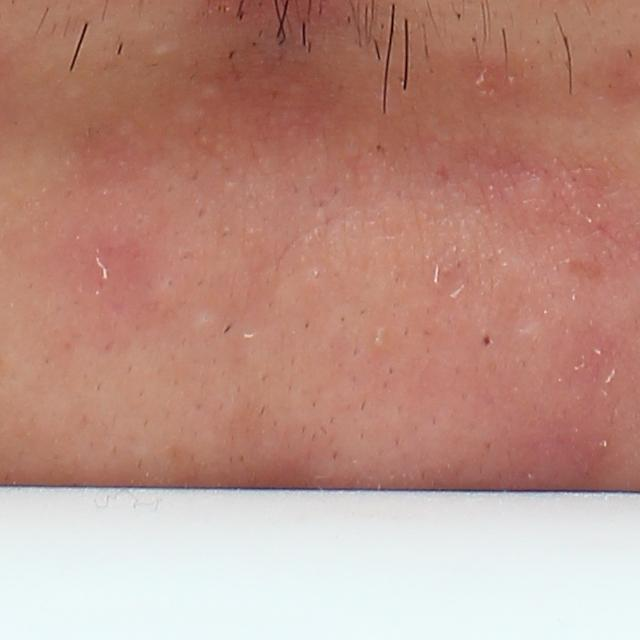comedo: (479, 331, 497, 353)
hypertrophic_scar: (148, 276, 181, 318), (191, 309, 221, 337), (153, 39, 180, 54)
